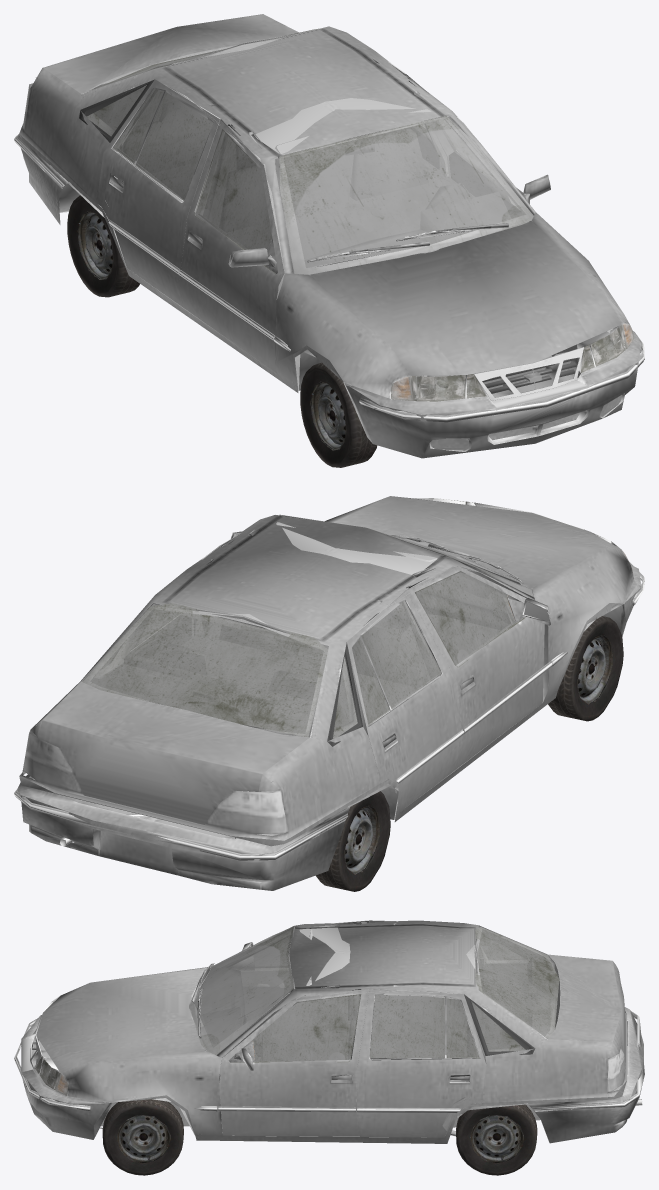
The model's file is v_nexia.glb.
3 renders of one model, top to bottom at view 1: azimuth 30°, elevation 25°; view 2: azimuth 150°, elevation 25°; view 3: azimuth 270°, elevation 25°, orthographic. The views are drawn at different scales.
Visible parts, largest first — view 1: Plane.002_Low, Plane.054, Tire_Low.002, Tire_Low.004, Plane.001; view 2: Plane.002_Low, Plane.054, Tire_Low.002, Tire_Low.004; view 3: Plane.002_Low, Plane.054, Tire_Low.003, Tire_Low.001, Plane.001.
Boxes of the visible parts, x1,y1,x2,y2 form: Plane.002_Low: (14, 14, 644, 458); Plane.054: (87, 28, 533, 274); Tire_Low.002: (300, 362, 377, 467); Tire_Low.004: (67, 195, 139, 297); Plane.001: (391, 323, 633, 401); Plane.002_Low: (14, 496, 644, 890); Plane.054: (83, 514, 533, 738); Tire_Low.002: (548, 616, 623, 721); Tire_Low.004: (315, 791, 390, 891); Plane.002_Low: (14, 920, 644, 1143); Plane.054: (189, 926, 559, 1055); Tire_Low.003: (102, 1099, 183, 1175); Tire_Low.001: (456, 1104, 537, 1175); Plane.001: (35, 1056, 68, 1095).
Bounding box in the file's own units: 1.85 × 1.29 × 4.14.
Materials: 3 (3 with a texture image).
